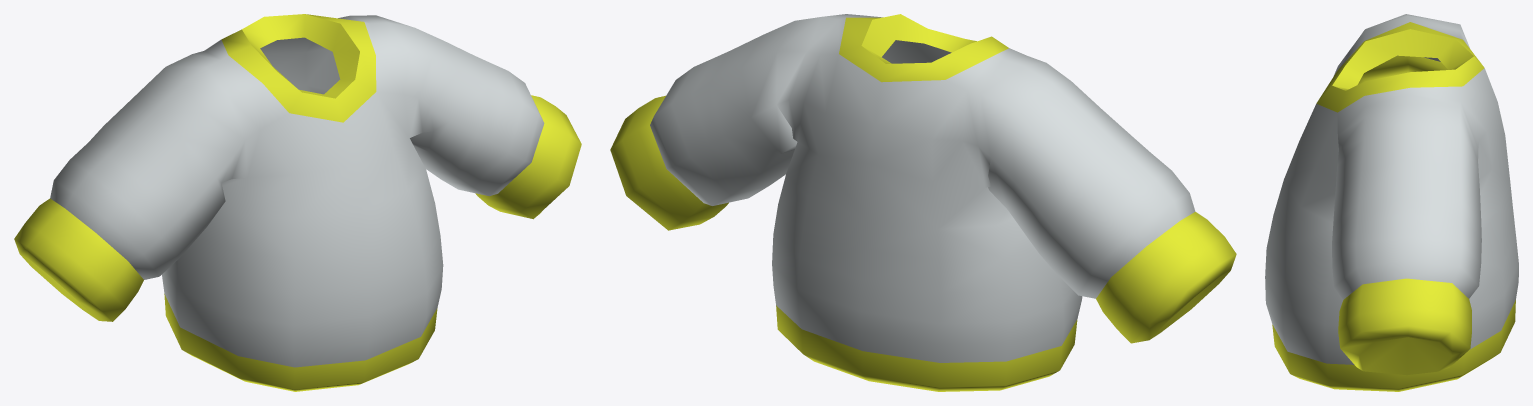
The model's file is top_A_01.fbx.
The picture shows the model from 3 angles, left to right: view 1: azimuth 30°, elevation 25°; view 2: azimuth 150°, elevation 25°; view 3: azimuth 270°, elevation 25°; orthographic projection. The views are drawn at different scales.
Parts seen in each view (by area): view 1: Top_54; view 2: Top_54; view 3: Top_54.
Boxes of the visible parts, x1,y1,x2,y2 form: Top_54: (14,14,581,391); Top_54: (610,14,1236,391); Top_54: (1265,14,1518,391).
Size of the model in its own units: 90.5 by 48.92 by 37.16.
